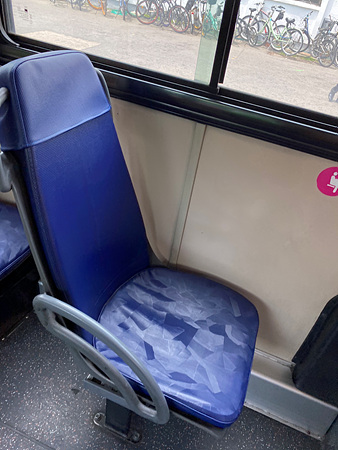seat: (5, 52, 257, 427)
